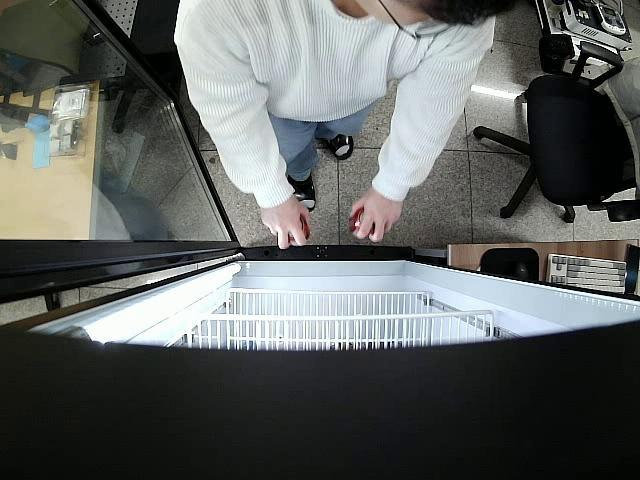11_cocaColaZero: (349, 207, 374, 234), (288, 214, 309, 241)
